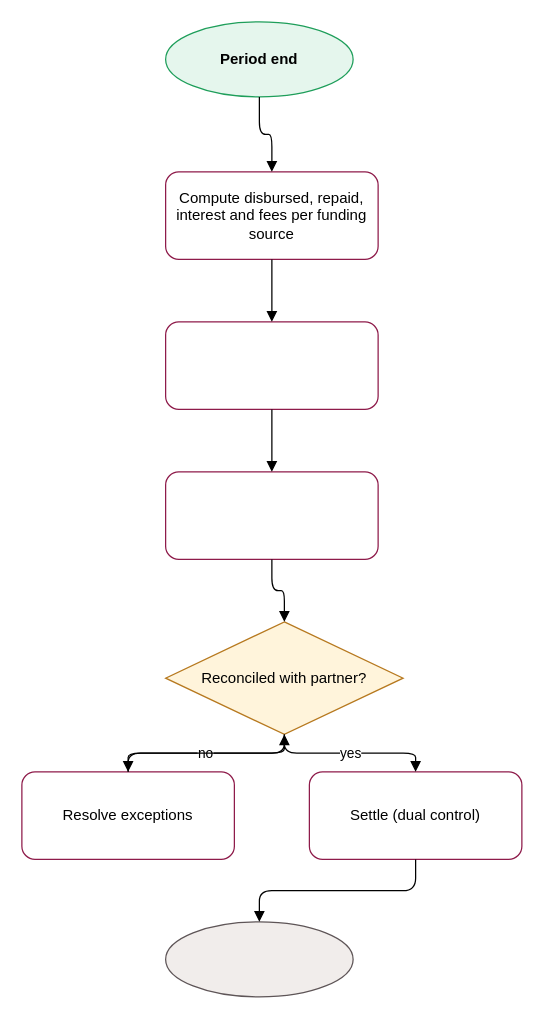
The diagram is 544 pixels wide and 1019 high, and some of its shapes have lost their labels. The centre of each missing label's shape, as x and y in pixels:
Apply revenue split rules: (x=271, y=365)
Produce settlement statement: (x=271, y=515)
Report published: (x=258, y=959)
